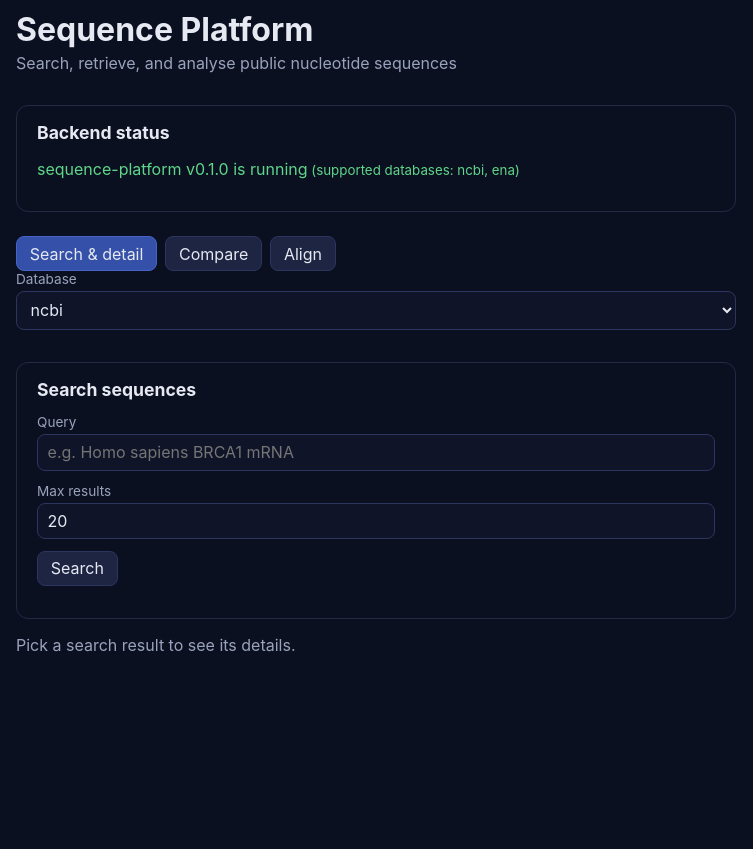
App comparison flow › compares an accession from the Compare panel and offers the export
Click the button "Compare".
click(214, 254)  # box [165,236,262,271]
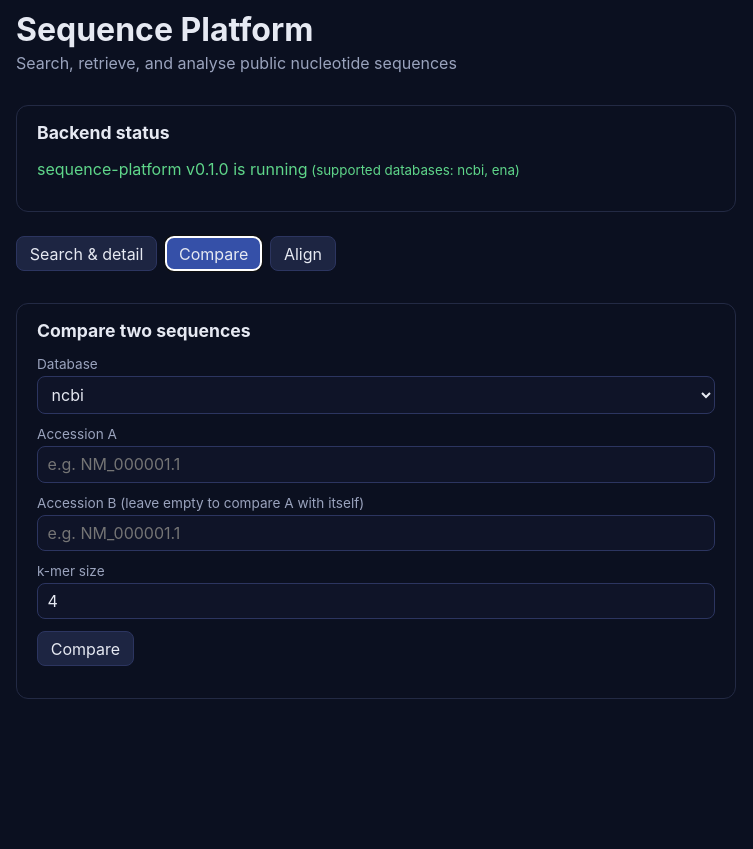
Type "NM_000001.1" into the field labelled "Accession A".
click(376, 464); type("NM_000001.1")  # box [37,446,715,483]
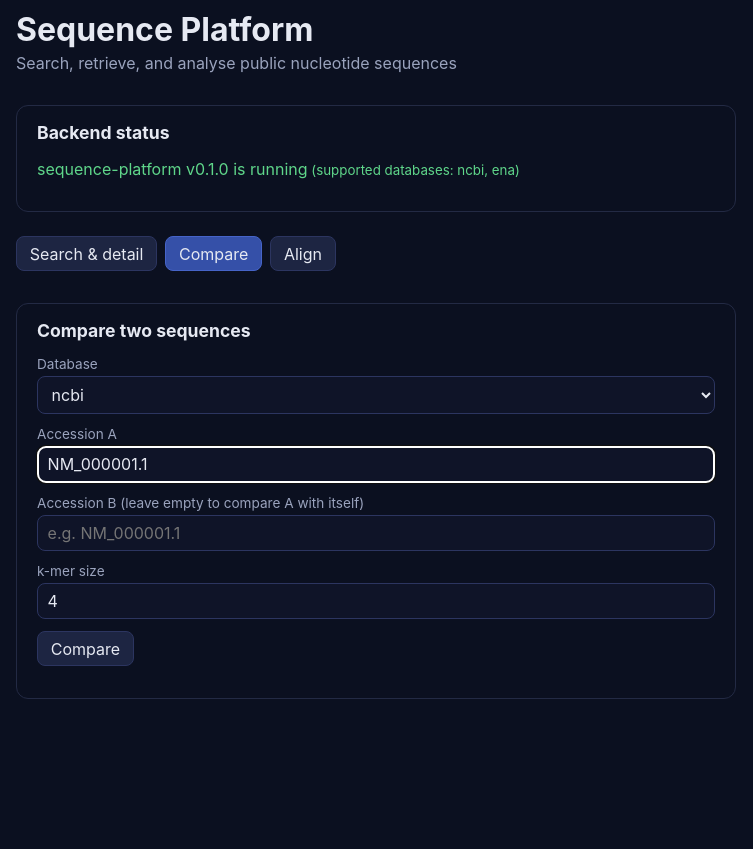
Click the button "Compare" below "k-mer size".
click(85, 649)  # box [37,631,134,666]
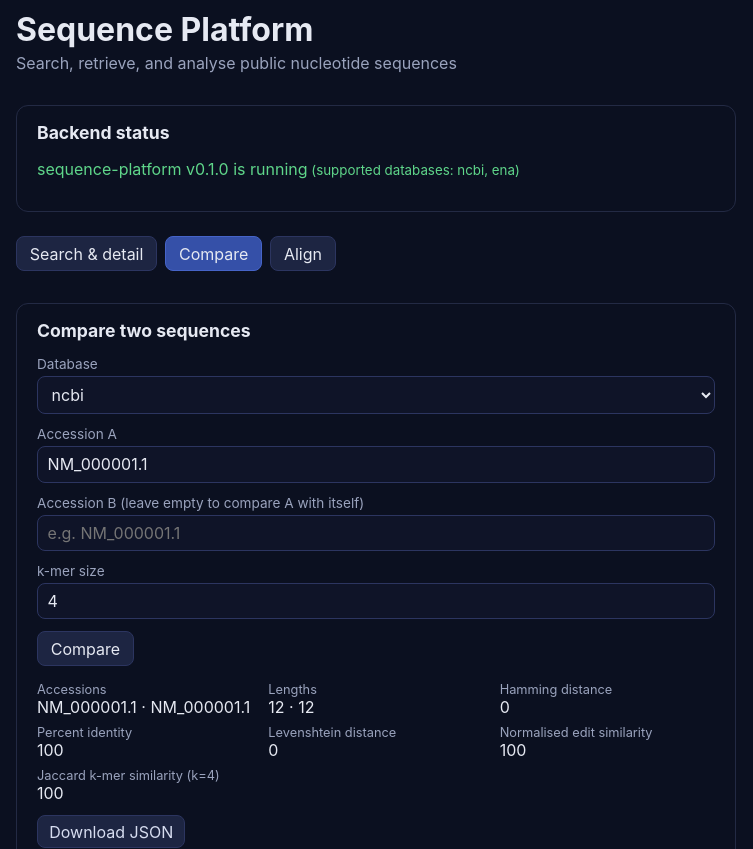
Check: the text with test id "compare-identity" reads "100", box [37,740,64,760]
